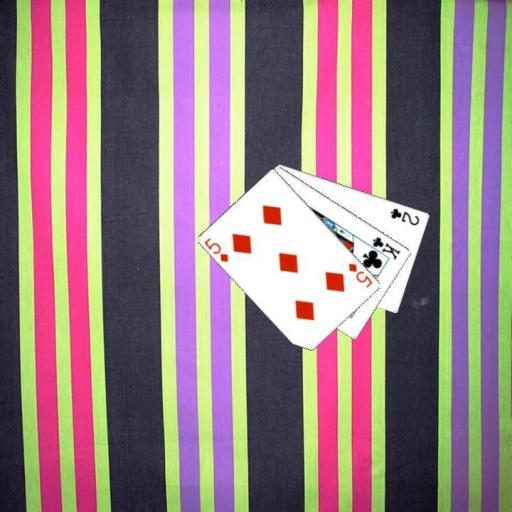card-corner: (363, 233, 402, 261), (346, 260, 374, 290), (202, 234, 230, 264), (388, 205, 421, 227)
